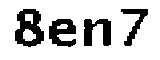7: (116, 5, 151, 53)
8: (11, 4, 45, 54)
e: (45, 15, 78, 50)
n: (78, 14, 114, 52)
